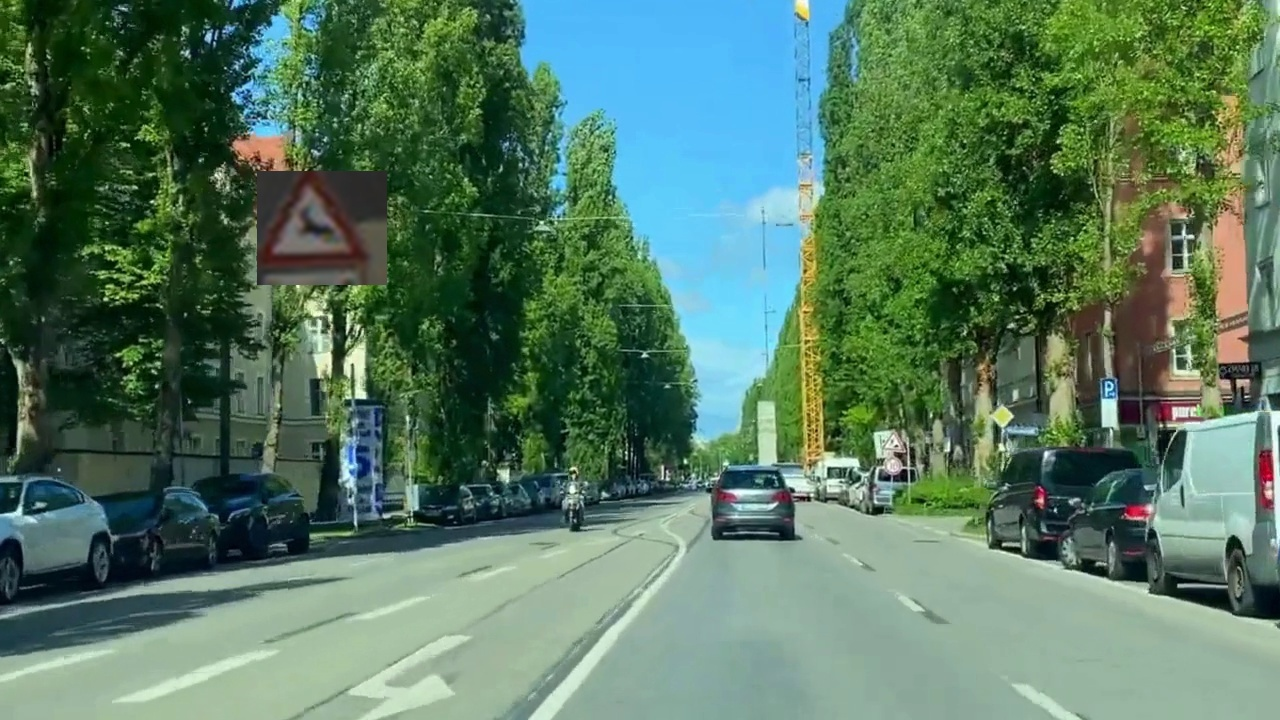Wild animals: (257, 171, 387, 285)
